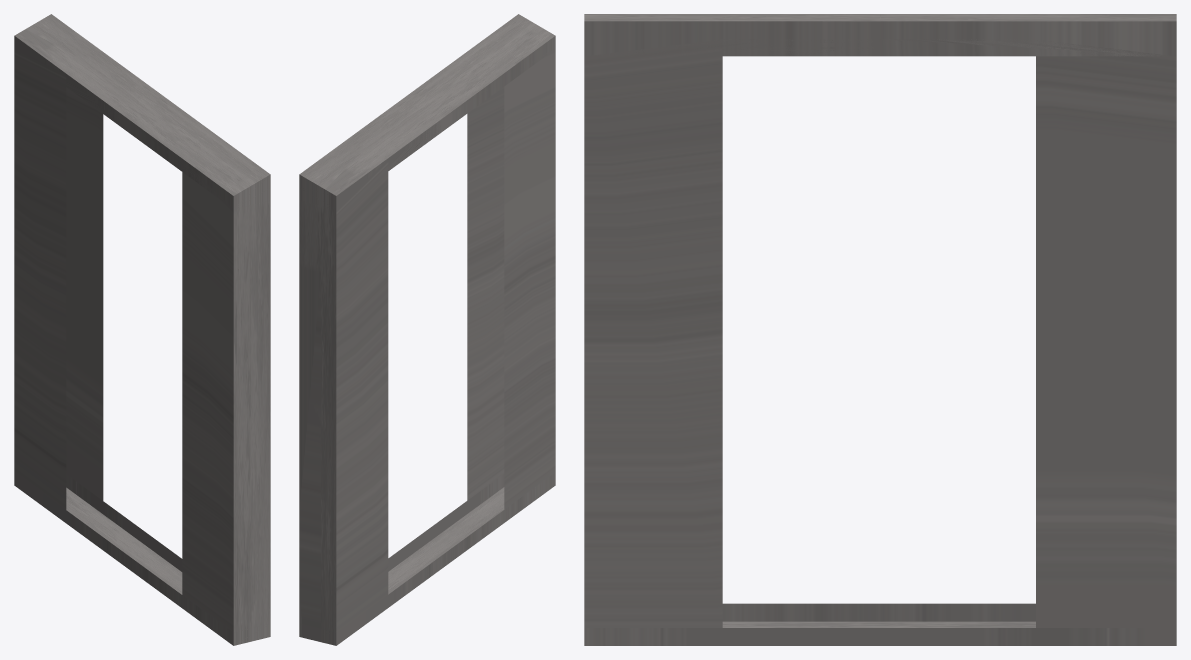
File: DP_DoorFrame.fbx
The picture shows the model from 3 angles, left to right: view 1: azimuth 30°, elevation 25°; view 2: azimuth 150°, elevation 25°; view 3: azimuth 270°, elevation 25°; orthographic projection. The views are drawn at different scales.
Parts seen in each view (by area): view 1: DP_DoorFrame; view 2: DP_DoorFrame; view 3: DP_DoorFrame.
Part boxes in pixels (bbox=[...]): DP_DoorFrame: bbox=[14, 14, 270, 645]; DP_DoorFrame: bbox=[299, 14, 555, 645]; DP_DoorFrame: bbox=[584, 14, 1176, 645].
Bounding box in the file's own units: 8 × 95.57 × 82.08.
Materials: 1 (1 with a texture image).
